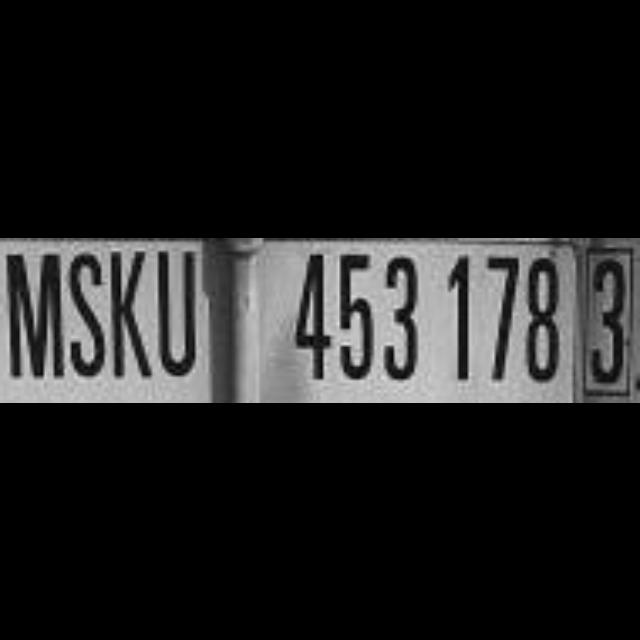1: (446, 246, 476, 390)
3: (580, 248, 630, 388), (377, 237, 417, 381)
4: (289, 238, 333, 390)
5: (336, 238, 378, 390)
7: (477, 248, 523, 389)
8: (523, 248, 563, 389)
k: (108, 238, 158, 386)
m: (0, 237, 70, 389)
s: (63, 238, 109, 382)
u: (153, 237, 200, 381)
